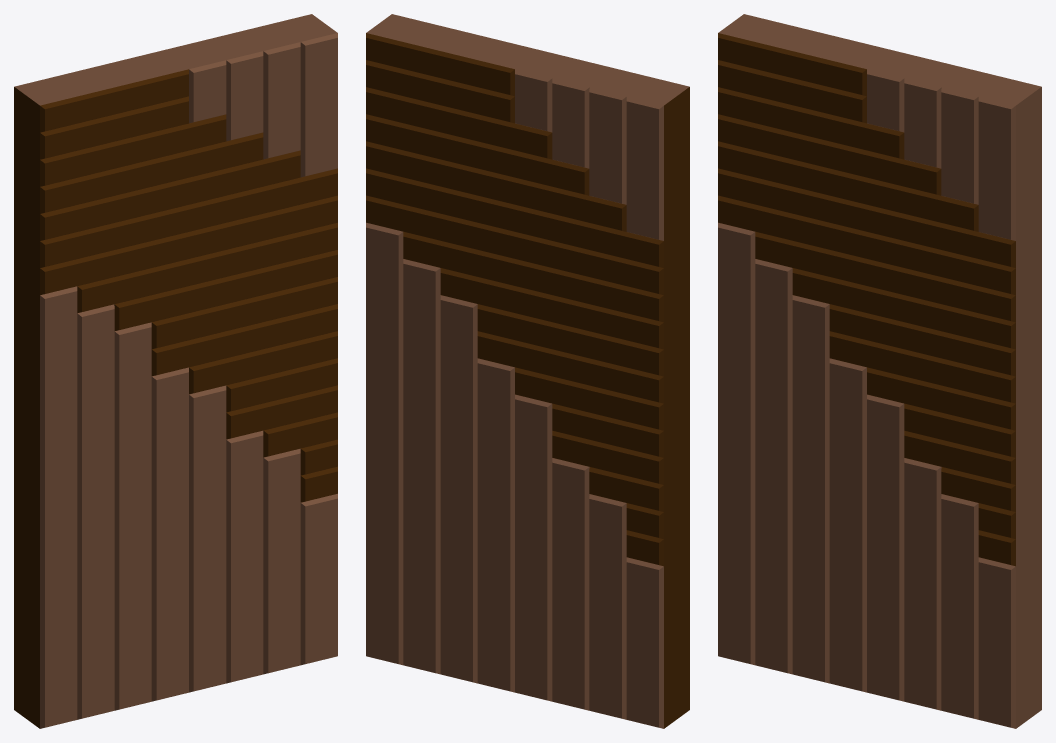
The model's file is WoodenBoardWall.glb.
3 renders of one model, left to right at view 1: azimuth 30°, elevation 25°; view 2: azimuth 150°, elevation 25°; view 3: azimuth 330°, elevation 25°, orthographic.
Visible parts, largest first — view 1: wall_modernBoard; view 2: wall_modernBoard; view 3: wall_modernBoard.
Part boxes in pixels (box(x1,y1,x2,y2)): wall_modernBoard: box(14, 14, 337, 728); wall_modernBoard: box(366, 14, 689, 728); wall_modernBoard: box(718, 14, 1041, 728).
Size of what is drawn, in the model's own units: 2 by 4 by 0.3576.
1 material, 1 textured.
